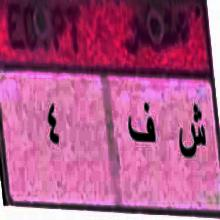4: (44, 96, 63, 145)
faa: (125, 100, 157, 156)
sheen: (177, 105, 207, 163)
